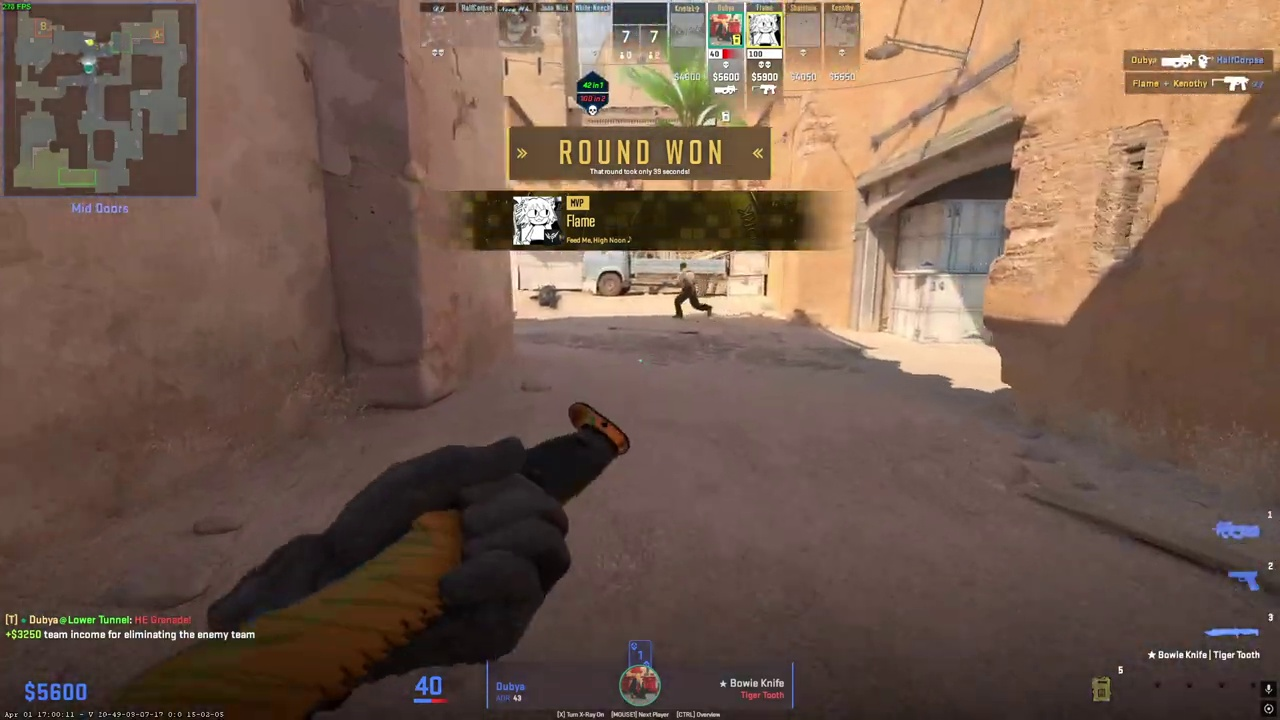Terrorist: (671, 261, 705, 319)
